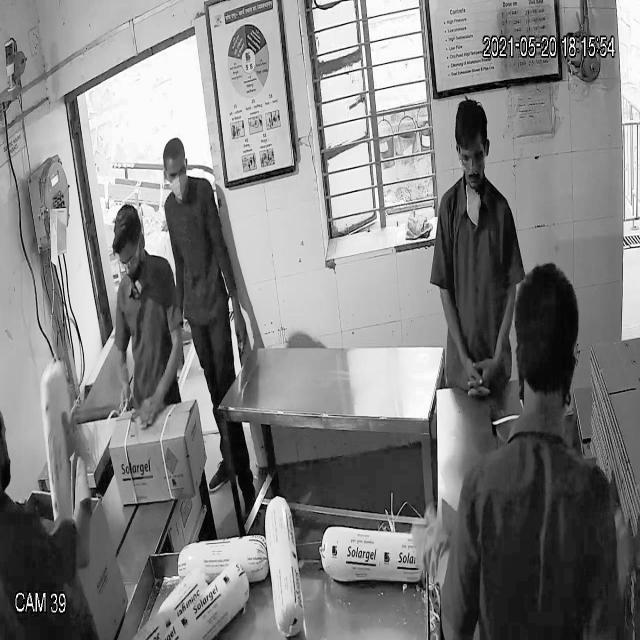glasses: (451, 131, 489, 174), (111, 241, 149, 275)
